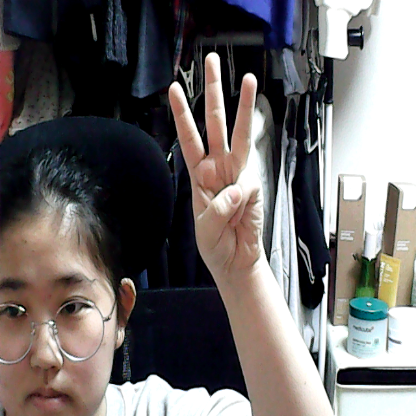Finger_3: (156, 34, 277, 274)
